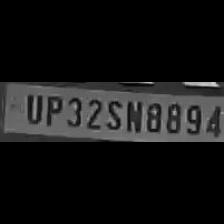2: (84, 96, 100, 130)
3: (62, 93, 82, 127)
4: (203, 102, 221, 136)
8: (143, 100, 163, 134), (163, 100, 181, 134)
9: (182, 101, 202, 135)
N: (124, 97, 142, 132)
P: (41, 92, 63, 126)
S: (103, 97, 123, 131)
U: (20, 92, 42, 124)
